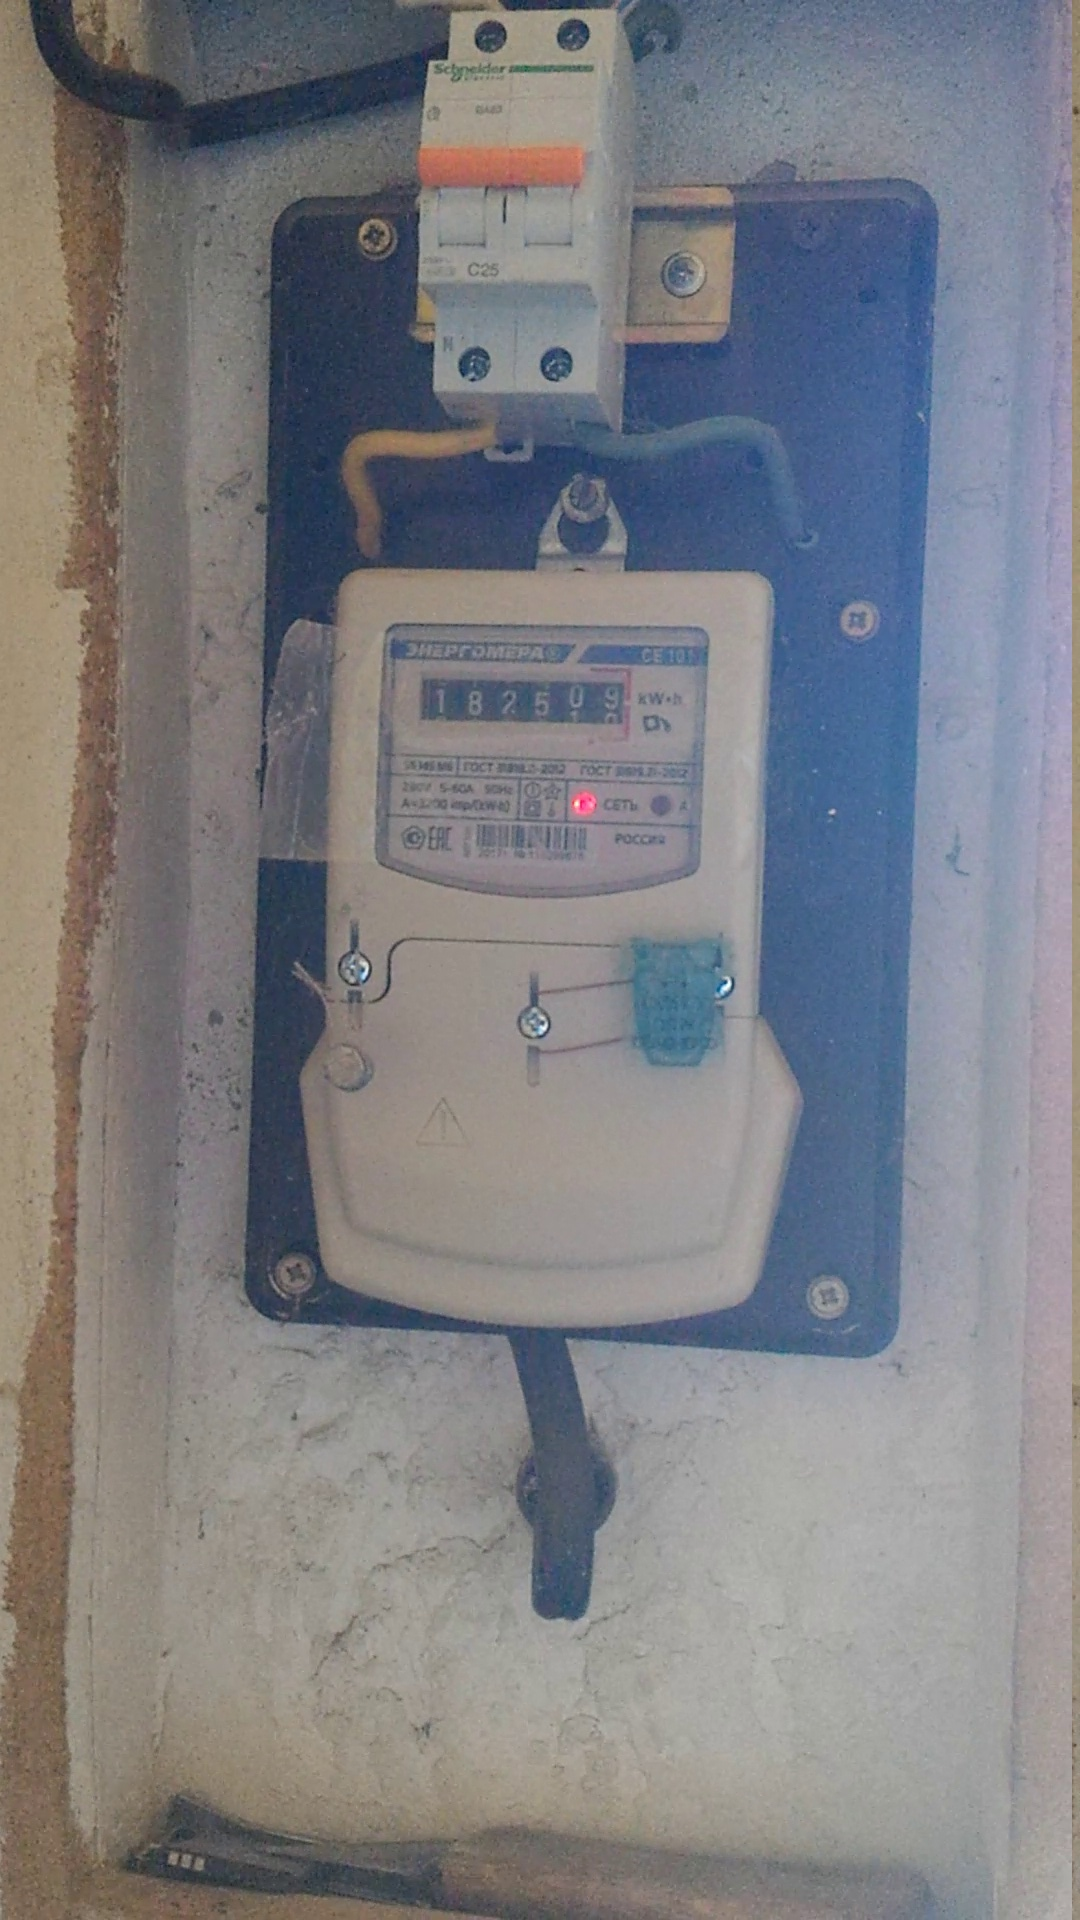counter: (299, 560, 783, 1324)
counter_screen: (418, 675, 625, 725)
